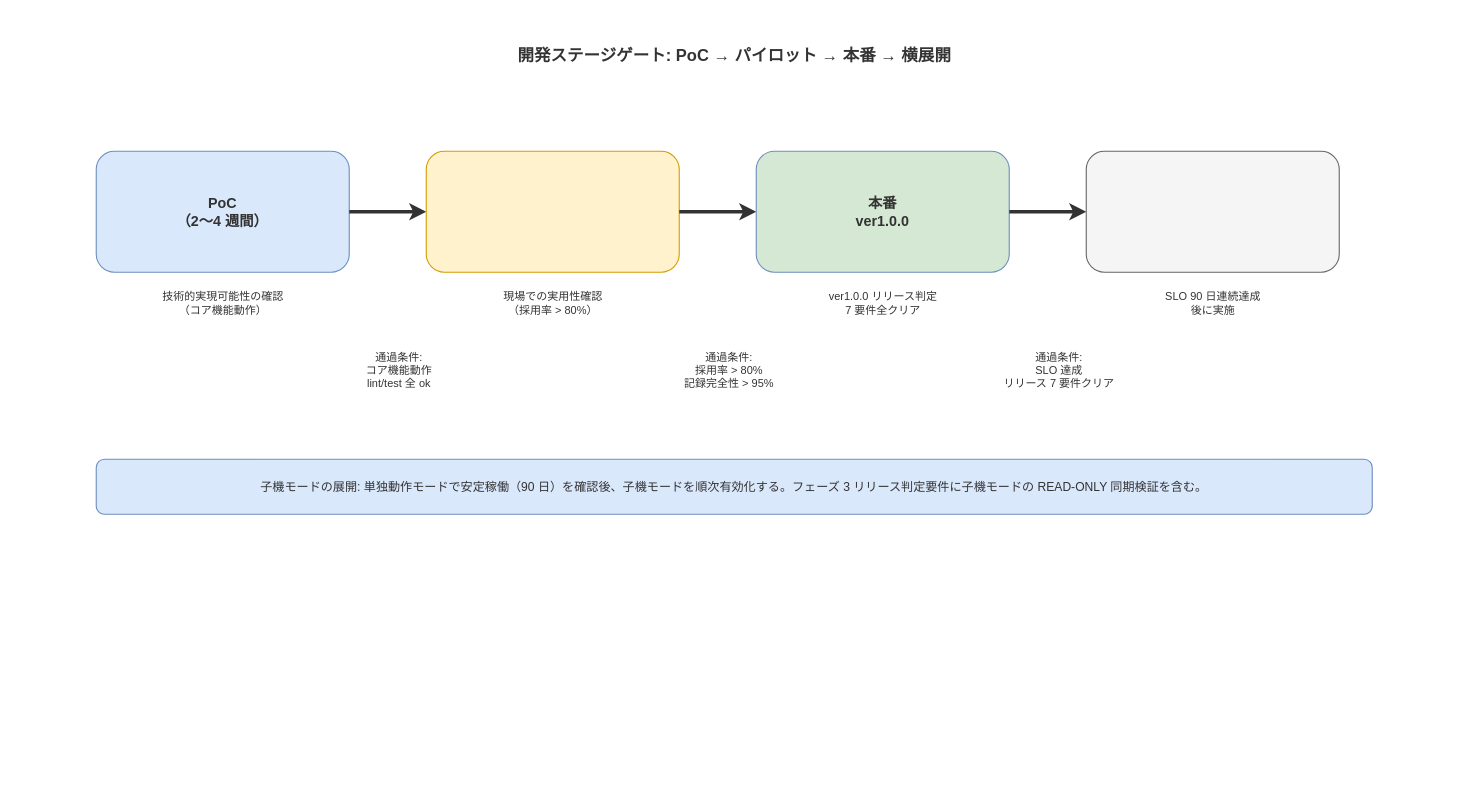
Some shapes in this 1467 by 785 pixel diagram are drawn without their labels. Each missing label, with the box of its shape:
パイロット（M6） 30 日間: (425, 150, 679, 272)
横展開 ver1.x（将来）: (1085, 150, 1339, 272)
